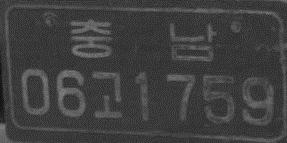0: (20, 67, 51, 116)
1: (129, 72, 159, 121)
5: (202, 74, 236, 124)
6: (55, 68, 87, 118)
7: (166, 73, 195, 121)
9: (241, 76, 274, 127)
고: (91, 70, 123, 119)
충남_D: (69, 18, 217, 62)
